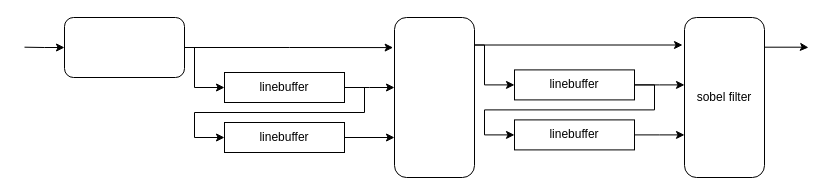
Image size: 834x195. Some labels were removed from this diagram. Each missing label, with the box of its shape:
gauss filter: (394, 16, 474, 178)
rgb2gray: (64, 16, 184, 78)
